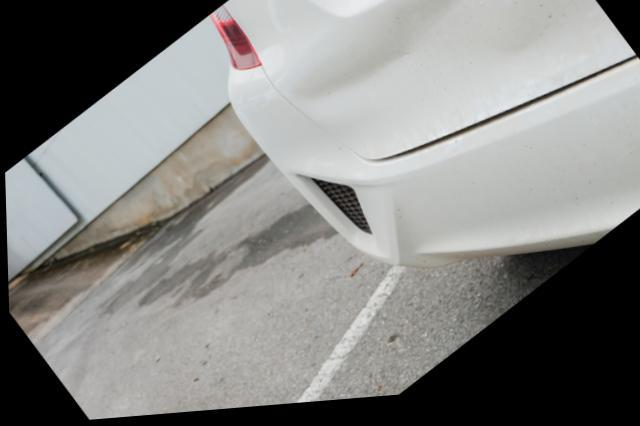dent: (289, 0, 557, 154)
